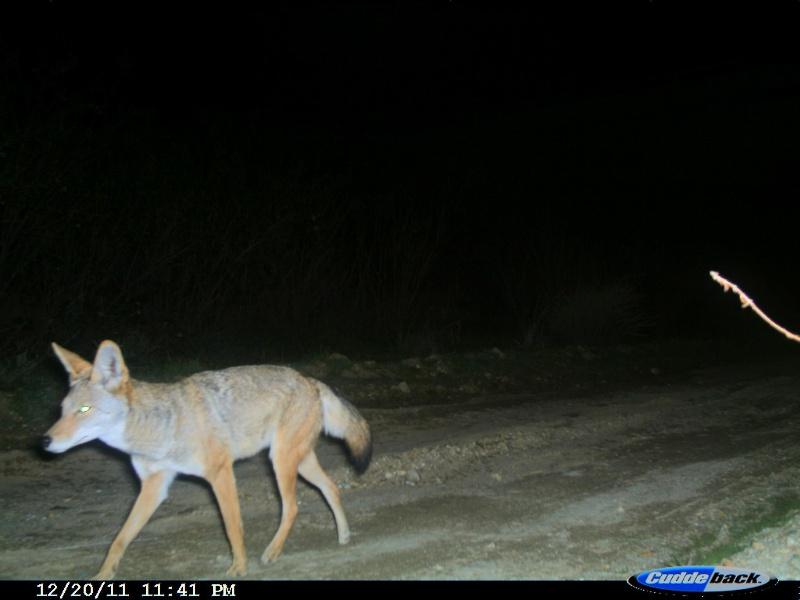coyote: (39, 338, 375, 580)
